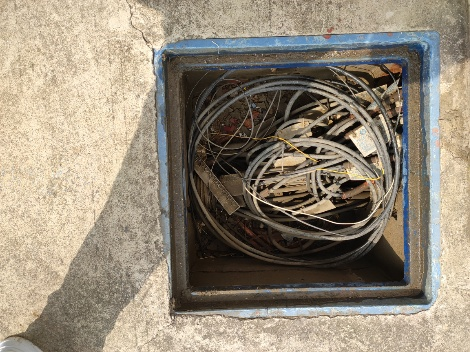lose: (153, 31, 439, 319)
